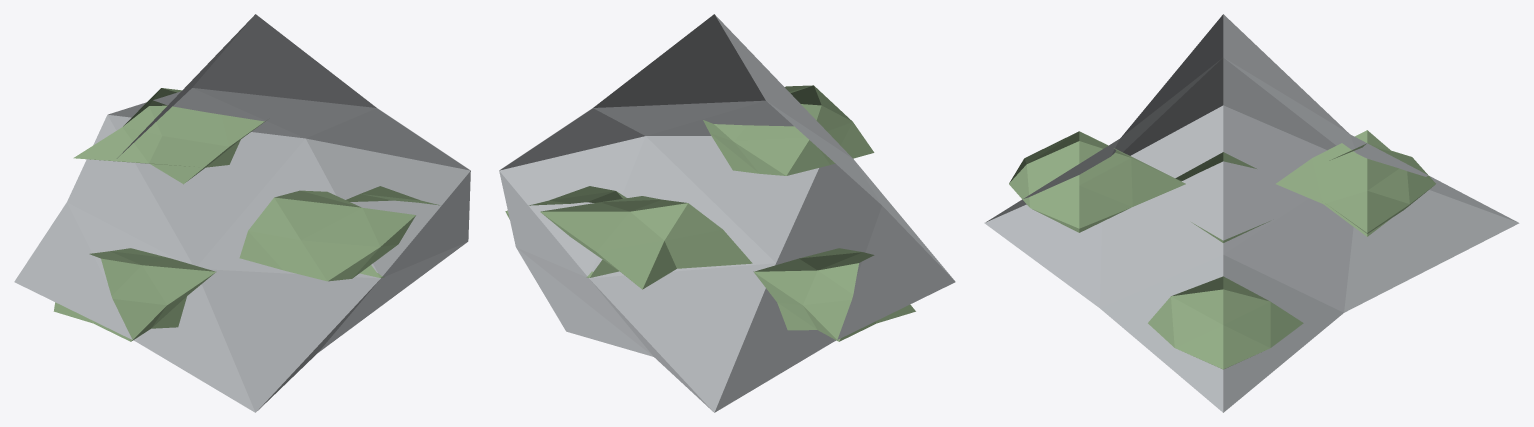
The model's file is moss_rock_v44.glb.
The picture shows the model from 3 angles, left to right: view 1: azimuth 30°, elevation 25°; view 2: azimuth 150°, elevation 25°; view 3: azimuth 270°, elevation 25°; orthographic projection.
Parts seen in each view (by area): view 1: lod0; view 2: lod0; view 3: lod0.
Part boxes in pixels (left/top/right/bottom): lod0: left=14, top=14, right=470, bottom=412; lod0: left=499, top=14, right=955, bottom=412; lod0: left=984, top=14, right=1519, bottom=412.
Size of what is drawn, in the model's own units: 1.37 by 1.15 by 1.39.
